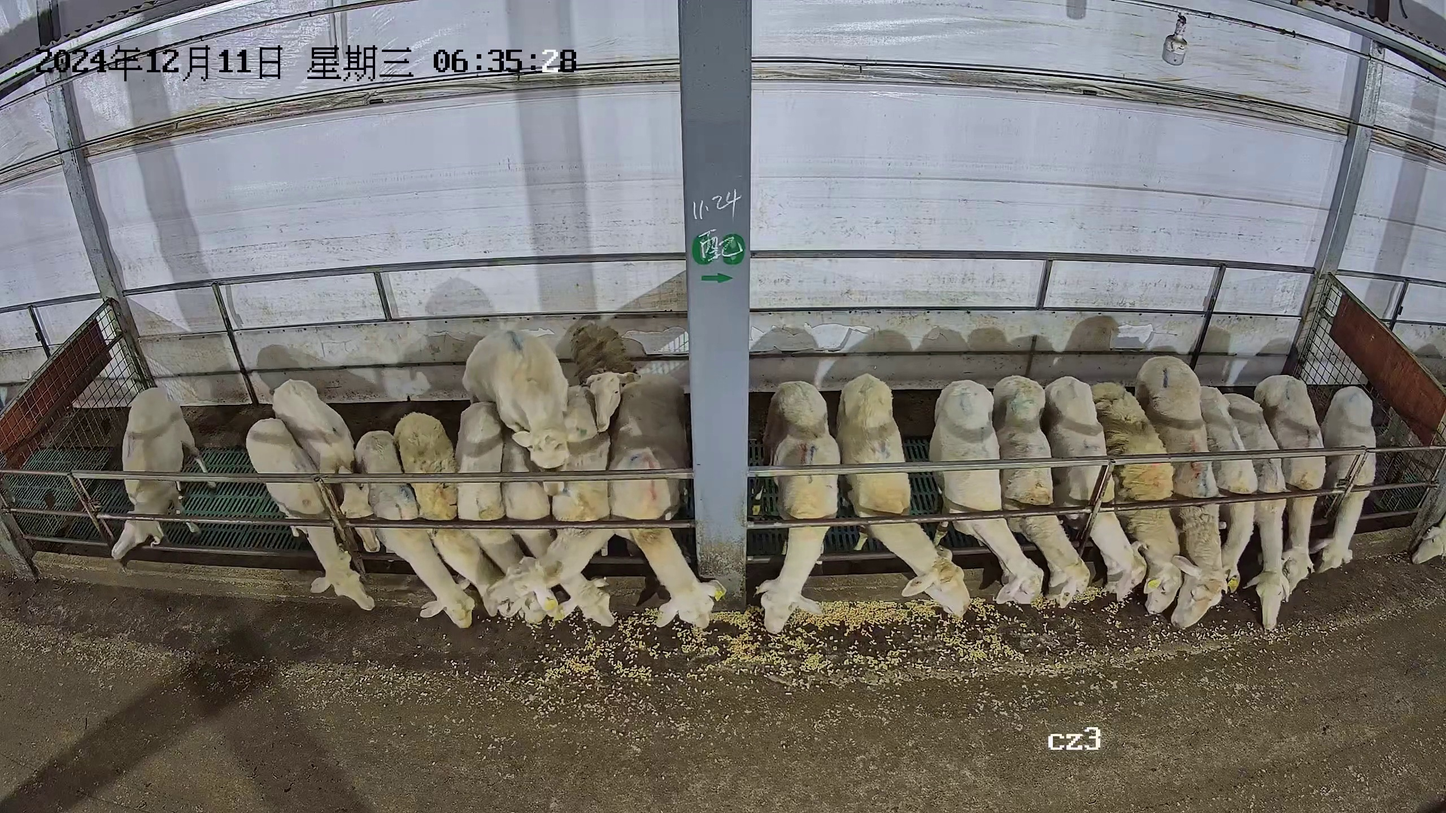Nmounting: (452, 325, 584, 630)
